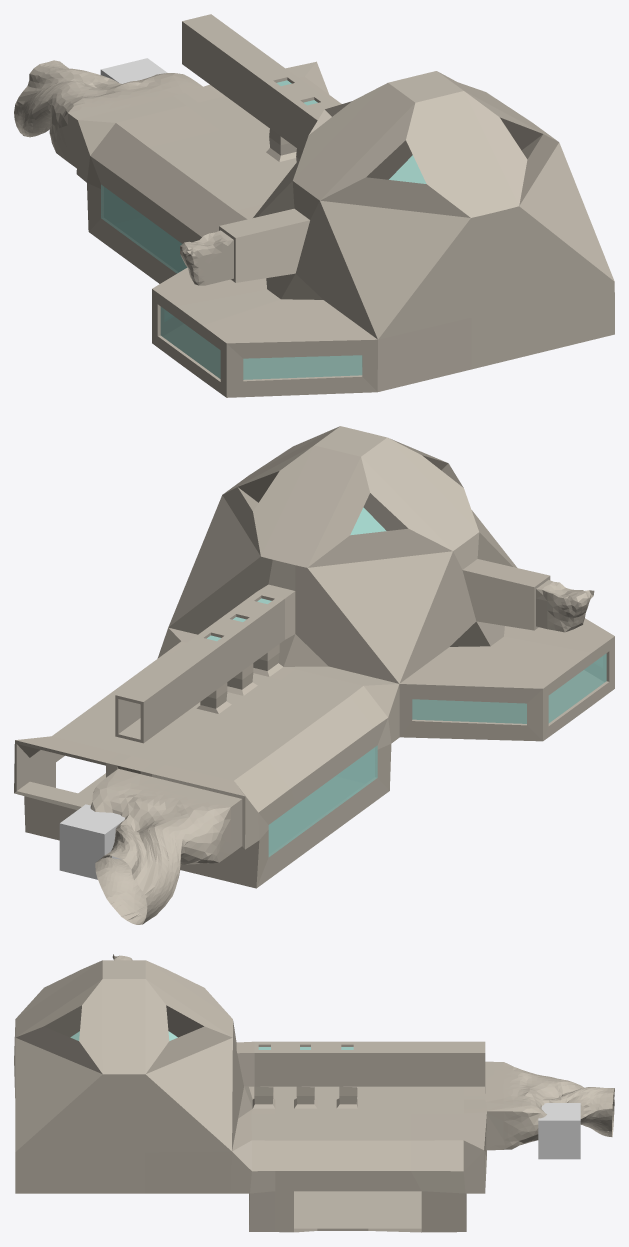
The model's file is Level1.glb.
3 renders of one model, top to bottom at view 1: azimuth 30°, elevation 25°; view 2: azimuth 150°, elevation 25°; view 3: azimuth 270°, elevation 25°, orthographic. The views are drawn at different scales.
Visible parts, largest first — view 1: Room-col, CrushedHallway-col, Window-001-col, Window-002-col, CrushedHallway.001-col, Window-col, Box-col, Window-skylight.002-col; view 2: Room-col, CrushedHallway-col, Window-001-col, Box-col, Window-003-col, CrushedHallway.001-col, Window-col; view 3: Room-col, CrushedHallway-col, Box-col.
Part boxes in pixels (x1,y1,x2,y2): Room-col: (76, 14, 614, 397); CrushedHallway-col: (14, 60, 202, 168); Window-001-col: (101, 184, 187, 273); Window-002-col: (243, 355, 362, 379); CrushedHallway.001-col: (180, 230, 233, 285); Window-col: (160, 307, 220, 378); Box-col: (100, 58, 167, 83); Window-skylight.002-col: (389, 155, 426, 183); Room-col: (14, 426, 614, 888); CrushedHallway-col: (90, 768, 242, 924); Window-001-col: (268, 745, 377, 857); Box-col: (59, 804, 124, 879); Window-003-col: (412, 699, 526, 723); CrushedHallway.001-col: (536, 580, 594, 632); Window-col: (548, 653, 606, 723); Room-col: (14, 960, 486, 1232); CrushedHallway-col: (485, 1061, 614, 1150); Box-col: (538, 1103, 580, 1159).
Size of the model in its own units: 31.5 by 22.58 by 56.6.
